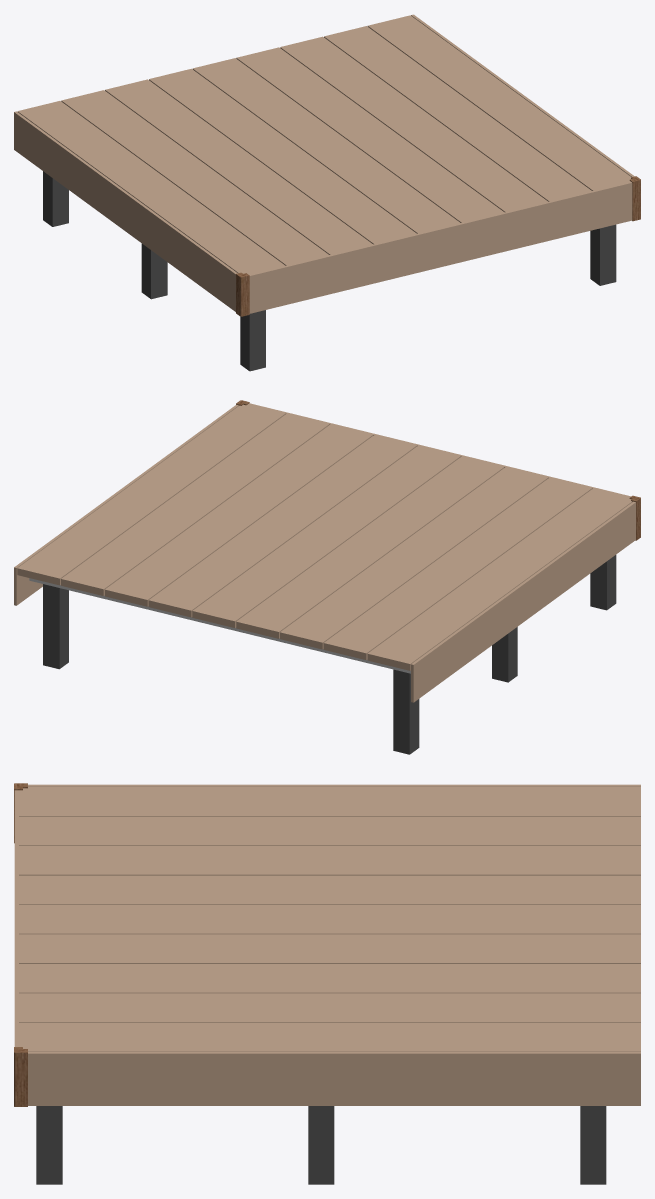
File: ecowood2deck195_1k-6s_natural.fbx
3 renders of one model, top to bottom at view 1: azimuth 30°, elevation 25°; view 2: azimuth 150°, elevation 25°; view 3: azimuth 270°, elevation 25°, orthographic. The views are drawn at different scales.
Visible parts, largest first — view 1: ecowood2deck195_1k-6s_natural; view 2: ecowood2deck195_1k-6s_natural; view 3: ecowood2deck195_1k-6s_natural.
Boxes of the visible parts, left/top/right/bottom form: ecowood2deck195_1k-6s_natural: left=14, top=14, right=640, bottom=371; ecowood2deck195_1k-6s_natural: left=14, top=400, right=640, bottom=754; ecowood2deck195_1k-6s_natural: left=14, top=783, right=640, bottom=1184.
Bounding box in the file's own units: 183 × 45.4 × 180.
Materials: 4 (1 with a texture image).
